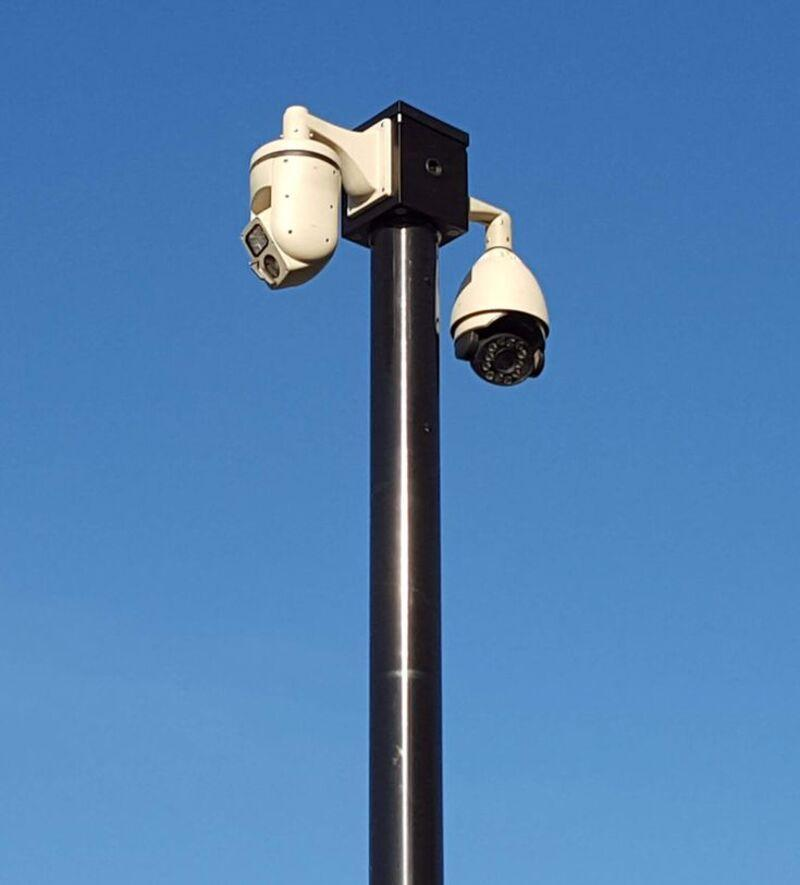ptz: (228, 133, 353, 300), (443, 253, 558, 398)
